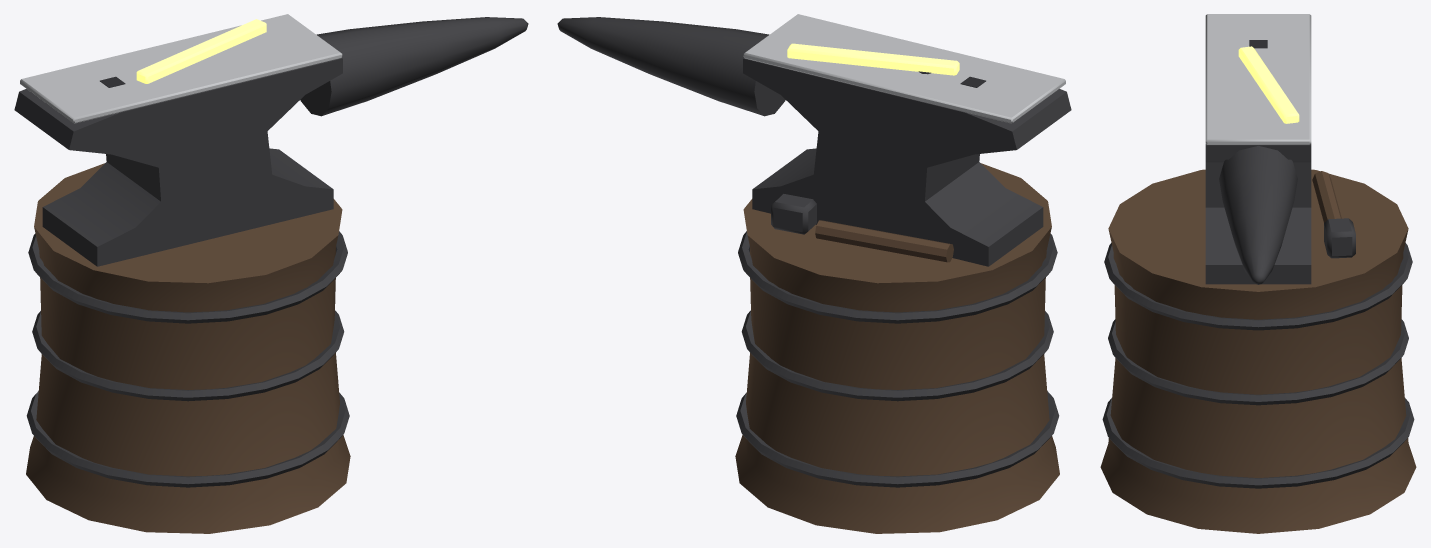
The model's file is gu_incudine.fbx.
3 renders of one model, left to right at view 1: azimuth 30°, elevation 25°; view 2: azimuth 150°, elevation 25°; view 3: azimuth 270°, elevation 25°, orthographic. The views are drawn at different scales.
Visible parts, largest first — view 1: gu_incudine_legno, gu_incudine_ferro, gu_incudine_acciaio, gu_incudine_brace; view 2: gu_incudine_legno, gu_incudine_ferro, gu_incudine_acciaio, gu_incudine_brace; view 3: gu_incudine_legno, gu_incudine_ferro, gu_incudine_acciaio, gu_incudine_brace.
Boxes of the visible parts, x1,y1,x2,y2 form: gu_incudine_legno: (26, 163, 350, 533); gu_incudine_ferro: (14, 17, 528, 487); gu_incudine_acciaio: (20, 14, 342, 123); gu_incudine_brace: (136, 19, 266, 83); gu_incudine_legno: (735, 163, 1059, 533); gu_incudine_ferro: (557, 17, 1071, 487); gu_incudine_acciaio: (743, 14, 1065, 123); gu_incudine_brace: (787, 43, 959, 75); gu_incudine_legno: (1100, 169, 1416, 533); gu_incudine_ferro: (1102, 144, 1414, 488); gu_incudine_acciaio: (1205, 14, 1311, 144); gu_incudine_brace: (1238, 46, 1299, 123).
Size of the model in its own units: 1.03 by 0.829 by 0.6.
